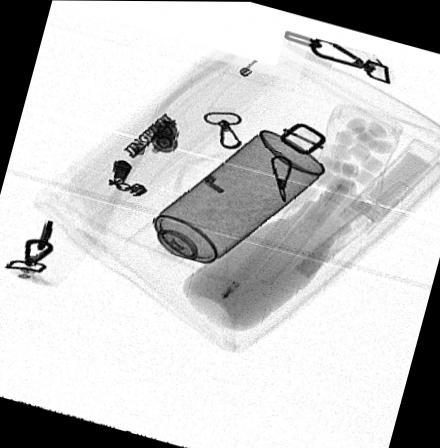Sprayer: (124, 129, 326, 286)
